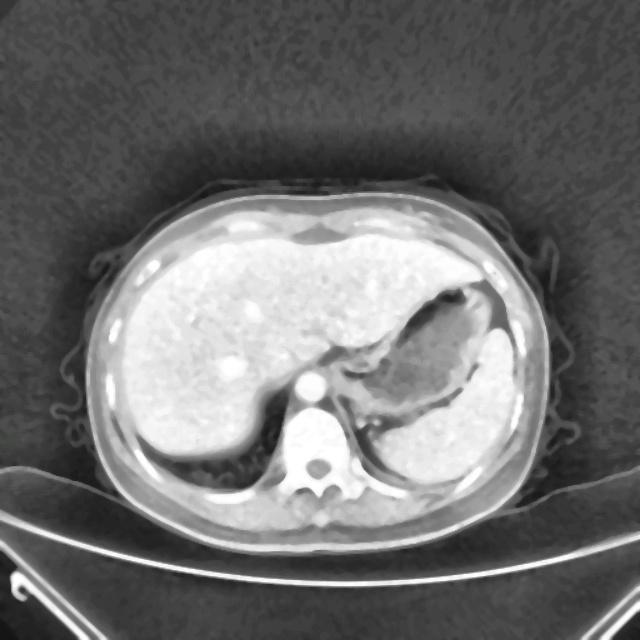covid: (74, 178, 555, 553)
